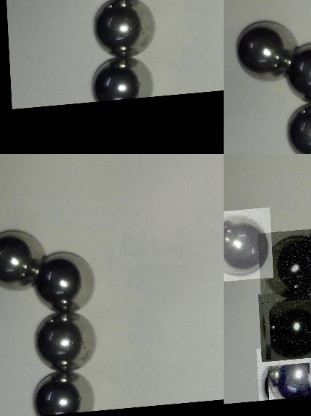ironball: (256, 229, 311, 304), (233, 16, 296, 81), (89, 0, 155, 62), (255, 290, 311, 363), (36, 308, 96, 371), (79, 53, 150, 105), (38, 247, 95, 311), (224, 208, 271, 283), (253, 345, 311, 402), (0, 218, 37, 298), (32, 372, 93, 414), (282, 38, 309, 103), (280, 100, 309, 155)
